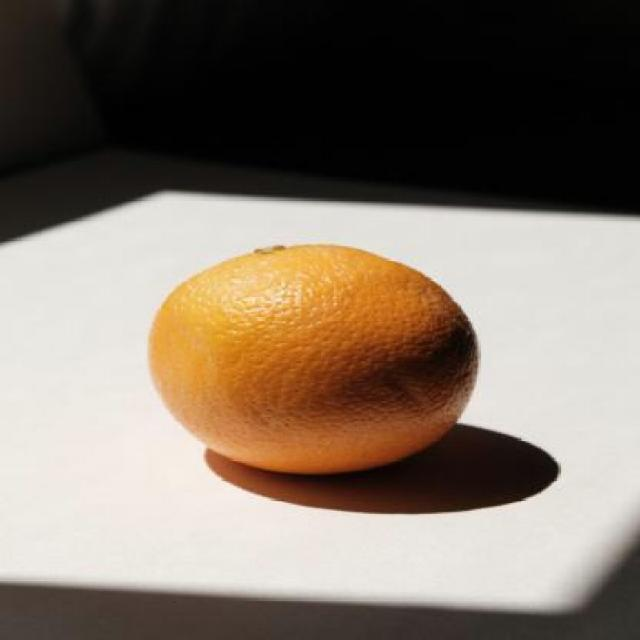Jeruk Sudah Matang: (144, 245, 488, 478)
